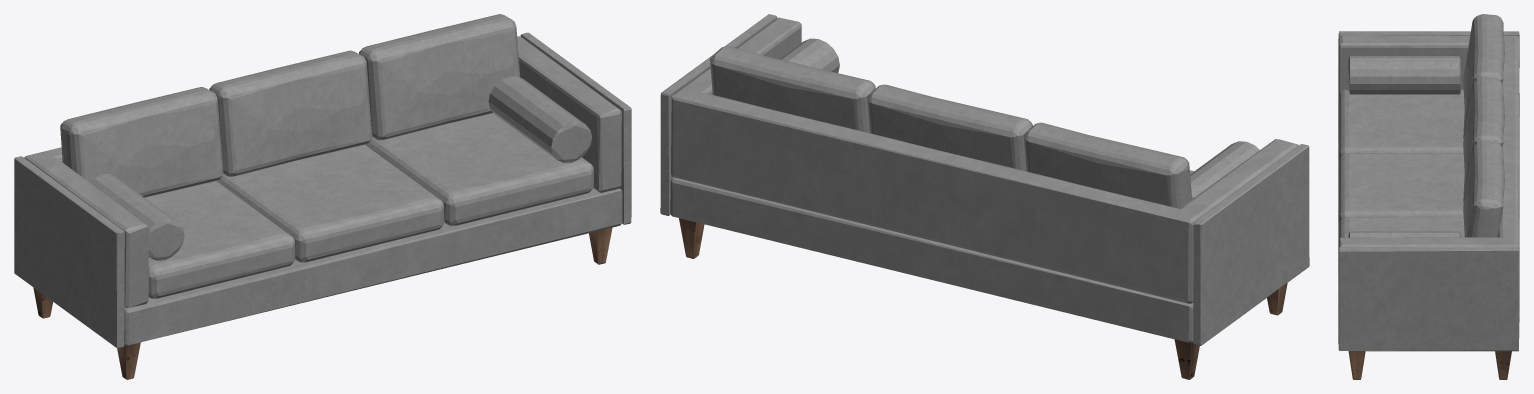
The model's file is sofa.glb.
3 views of the same model, side by side, from view 1: azimuth 30°, elevation 25°; view 2: azimuth 150°, elevation 25°; view 3: azimuth 270°, elevation 25° (orthographic). The views are drawn at different scales.
Parts seen in each view (by area): view 1: Sofa_Apt_01, feet; view 2: Sofa_Apt_01, feet; view 3: Sofa_Apt_01, feet.
Part boxes in pixels (x1,y1,x2,y2): Sofa_Apt_01: (14, 14, 631, 348); feet: (33, 227, 612, 379); Sofa_Apt_01: (660, 14, 1309, 345); feet: (679, 218, 1287, 379); Sofa_Apt_01: (1338, 14, 1519, 351); feet: (1348, 351, 1511, 379).
Size of the model in its own units: 2.6 by 0.9454 by 0.9056.
Materials: 2 (2 with a texture image).
